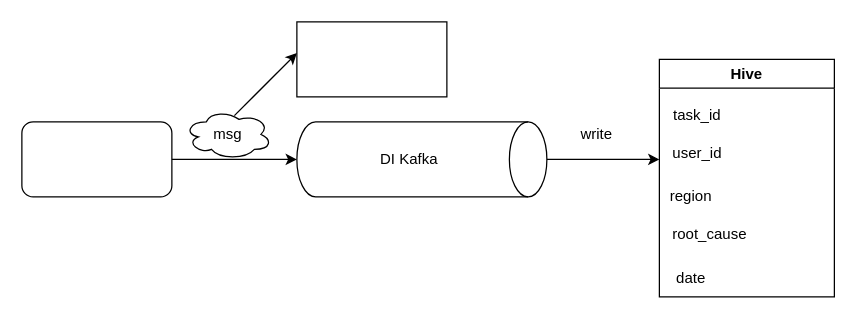
Some shapes in this 856 by 319 pixel diagram are drawn without their labels. Each missing label, with the centre of its shape:
prioritisation script: the point at 96,159
task_id, user_id, root_cause,date: the point at 371,59
